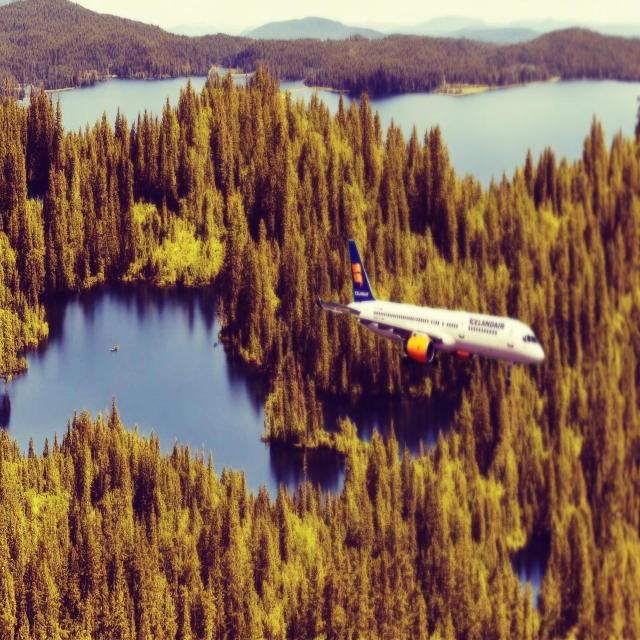airplane: (312, 238, 545, 385)
